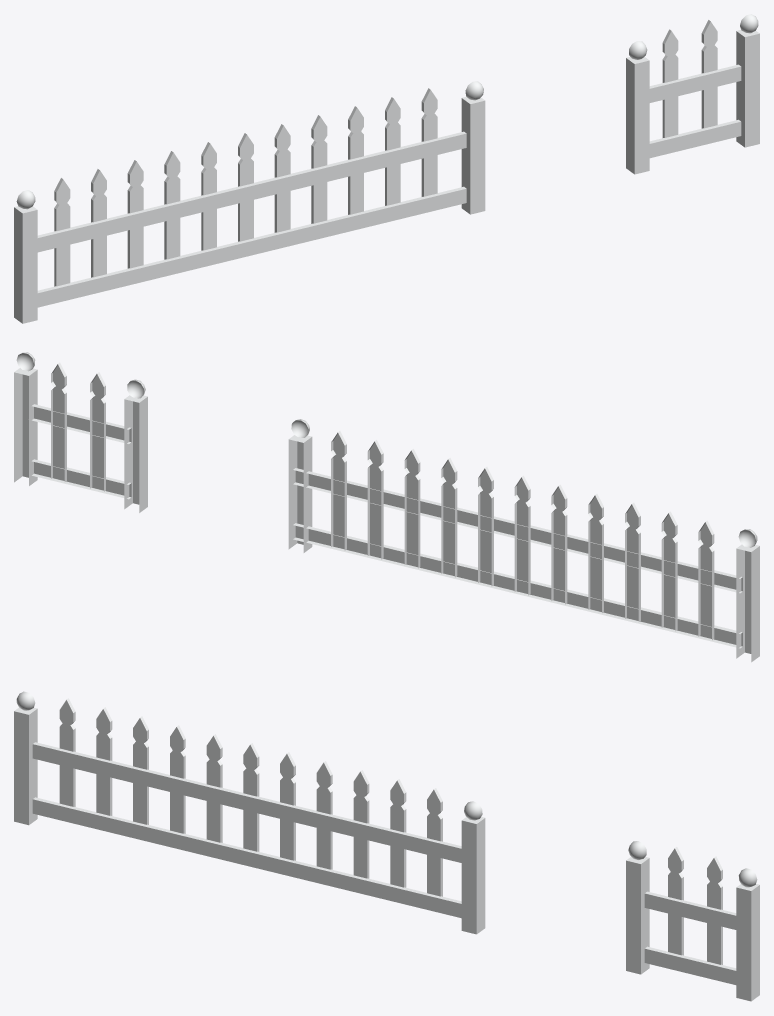
The model's file is M_weilan01.FBX.
The picture shows the model from 3 angles, top to bottom: view 1: azimuth 30°, elevation 25°; view 2: azimuth 150°, elevation 25°; view 3: azimuth 330°, elevation 25°; orthographic projection.
Visible parts, largest first — view 1: M_weilan01_01, M_weilan01_02; view 2: M_weilan01_01, M_weilan01_02; view 3: M_weilan01_01, M_weilan01_02.
Boxes of the visible parts, box(x1,y1,x2,y2) form: M_weilan01_01: box(14, 20, 759, 323); M_weilan01_02: box(16, 14, 758, 209); M_weilan01_01: box(14, 362, 759, 662); M_weilan01_02: box(16, 352, 757, 547); M_weilan01_01: box(14, 698, 759, 1001); M_weilan01_02: box(16, 691, 757, 887).
Size of the model in its own units: 7.36 by 1.22 by 0.1627.
